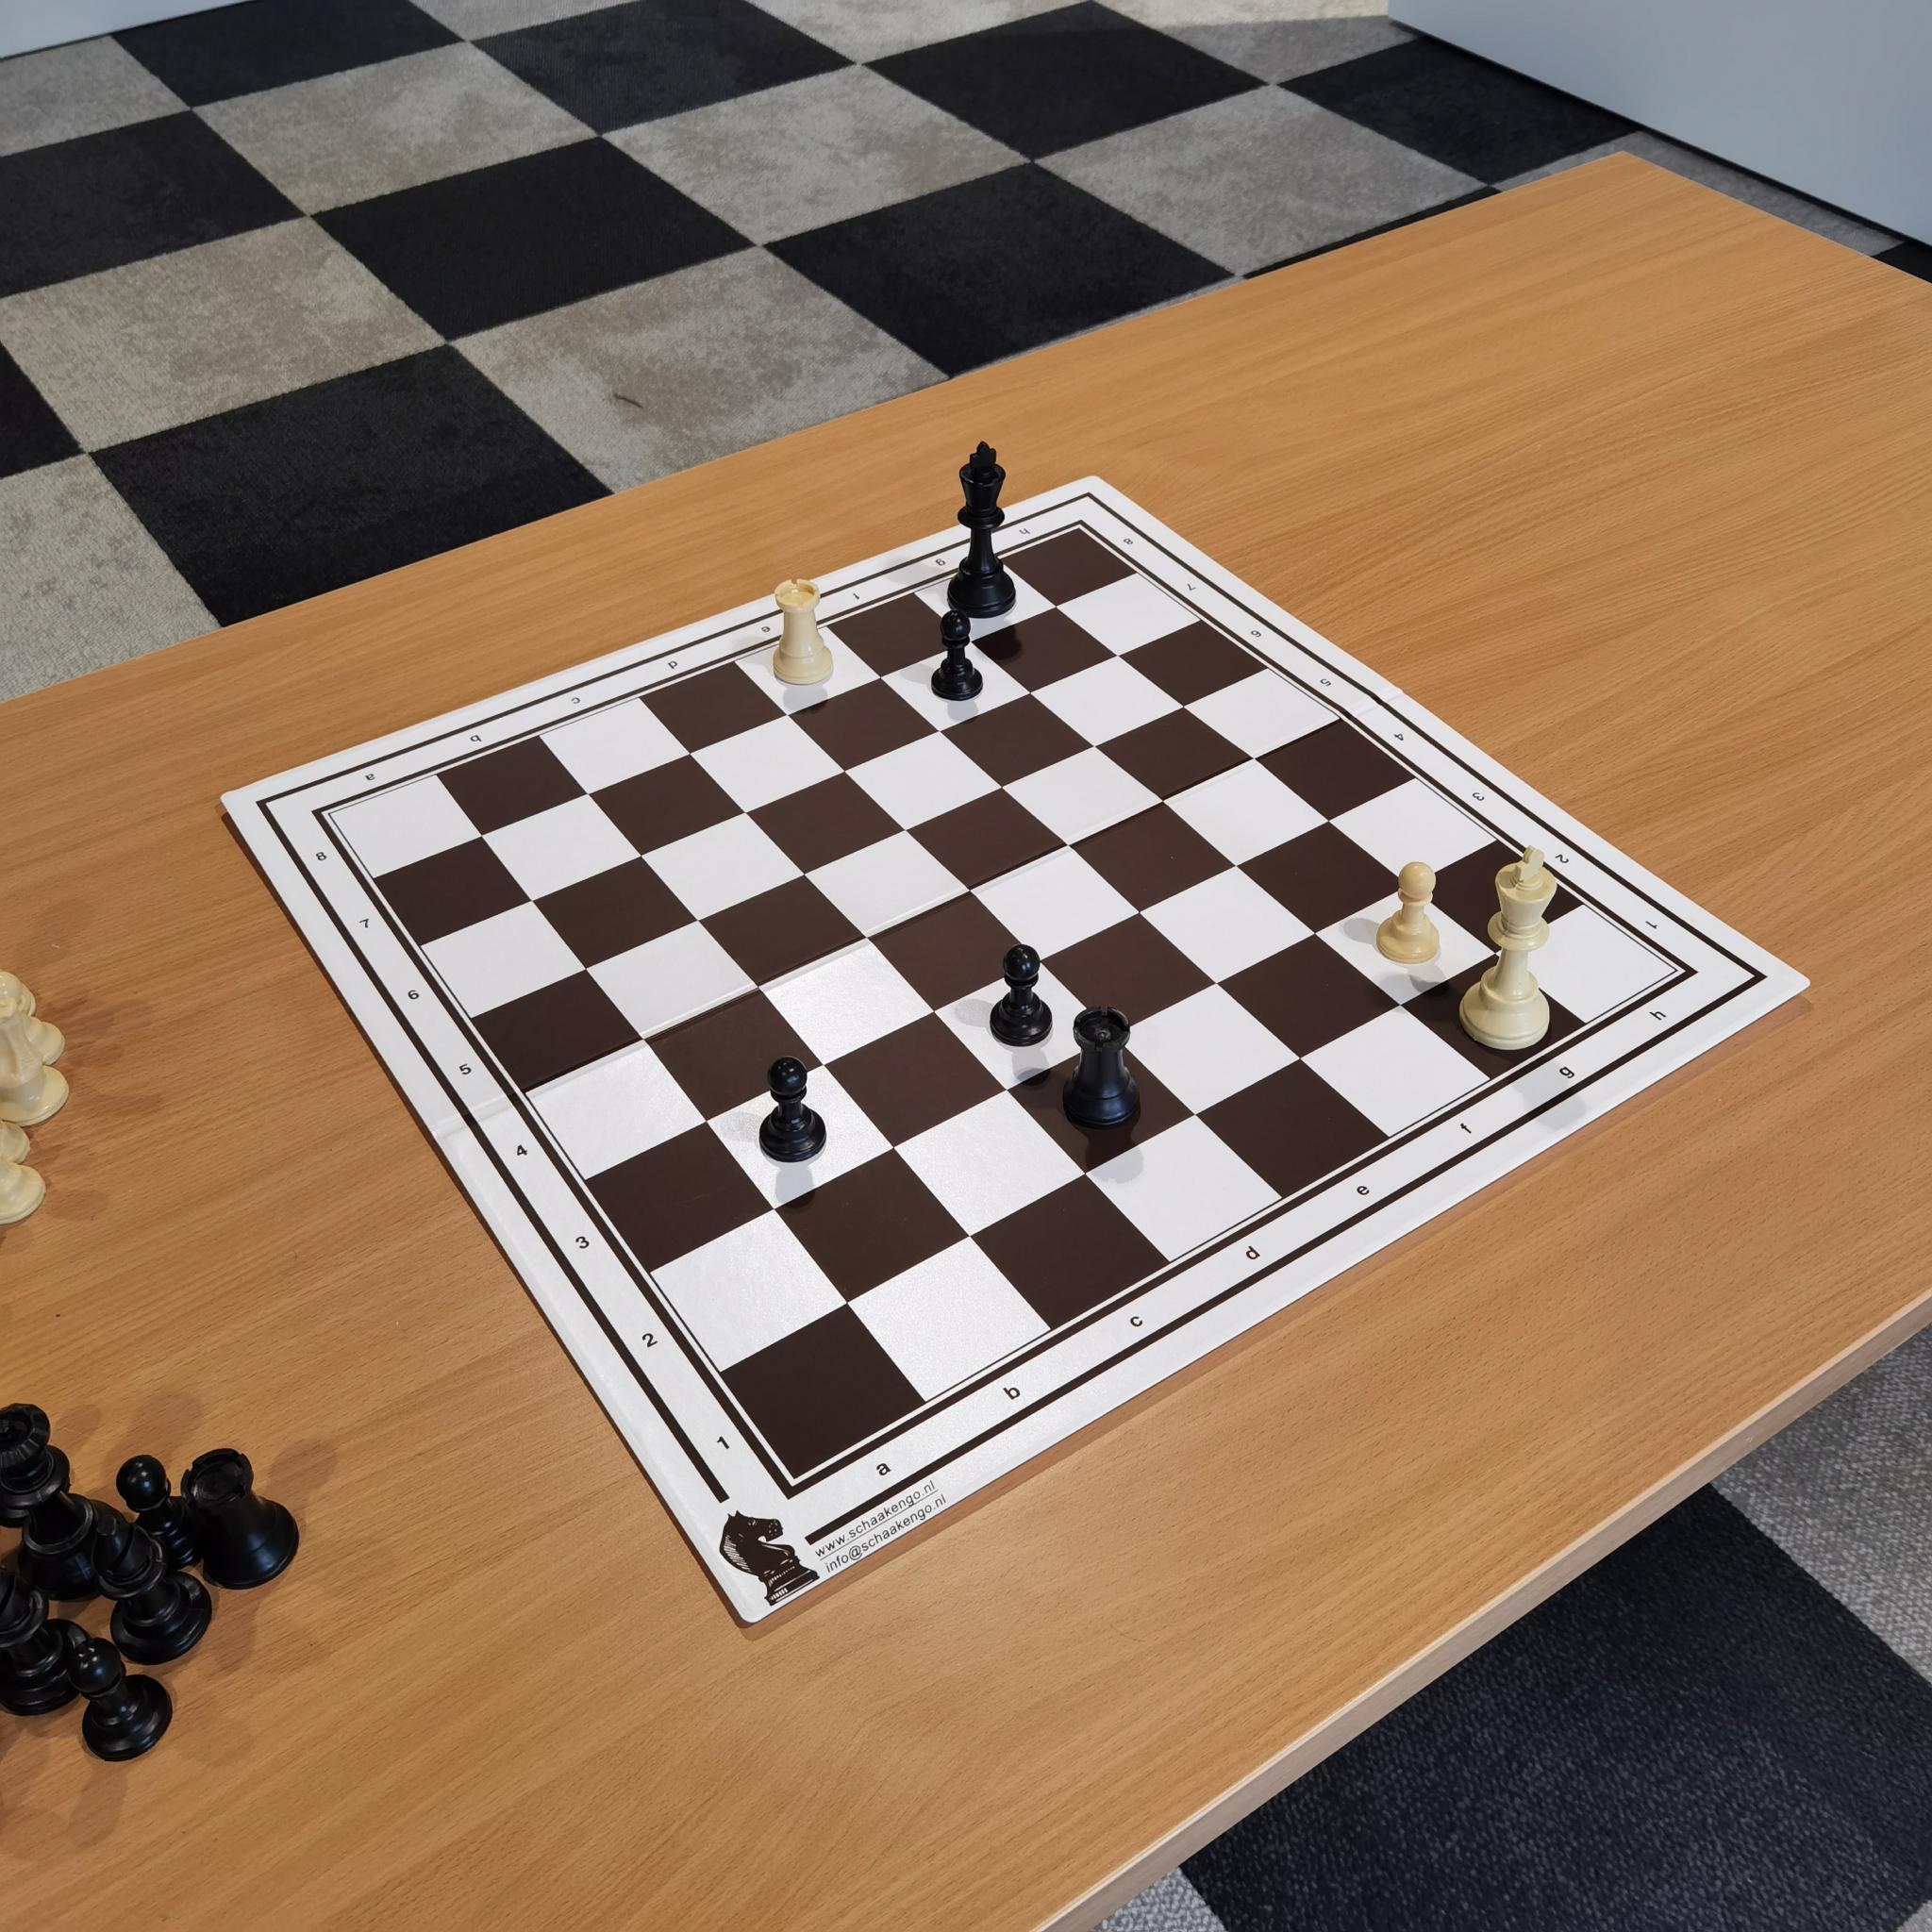corners: (768, 1447, 826, 1500), (310, 791, 356, 842), (1651, 950, 1698, 993), (1062, 517, 1100, 547)
eight: (303, 835, 345, 872), (1111, 527, 1143, 556)
one: (704, 1417, 748, 1470), (1638, 909, 1665, 943)
